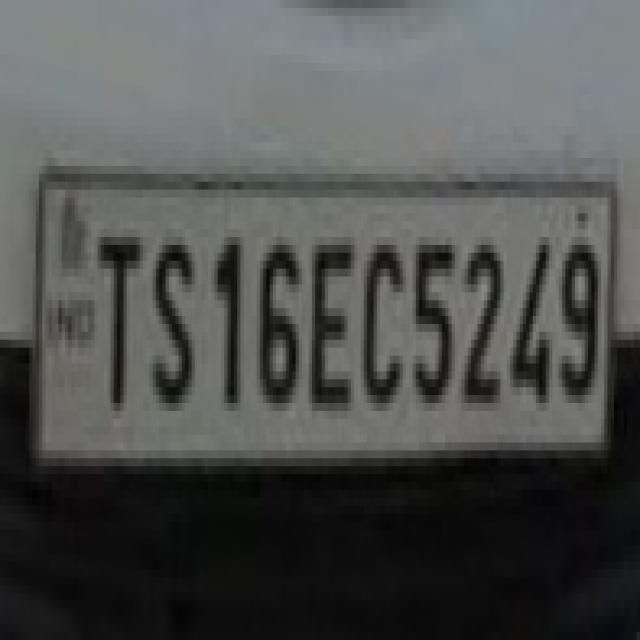1: (207, 206, 246, 424)
4: (506, 226, 555, 420)
5: (408, 226, 458, 422)
6: (258, 222, 303, 415)
9: (560, 225, 604, 418)
C: (361, 220, 404, 414)
E: (308, 222, 358, 421)
S: (148, 220, 199, 419)
T: (92, 214, 144, 425)
